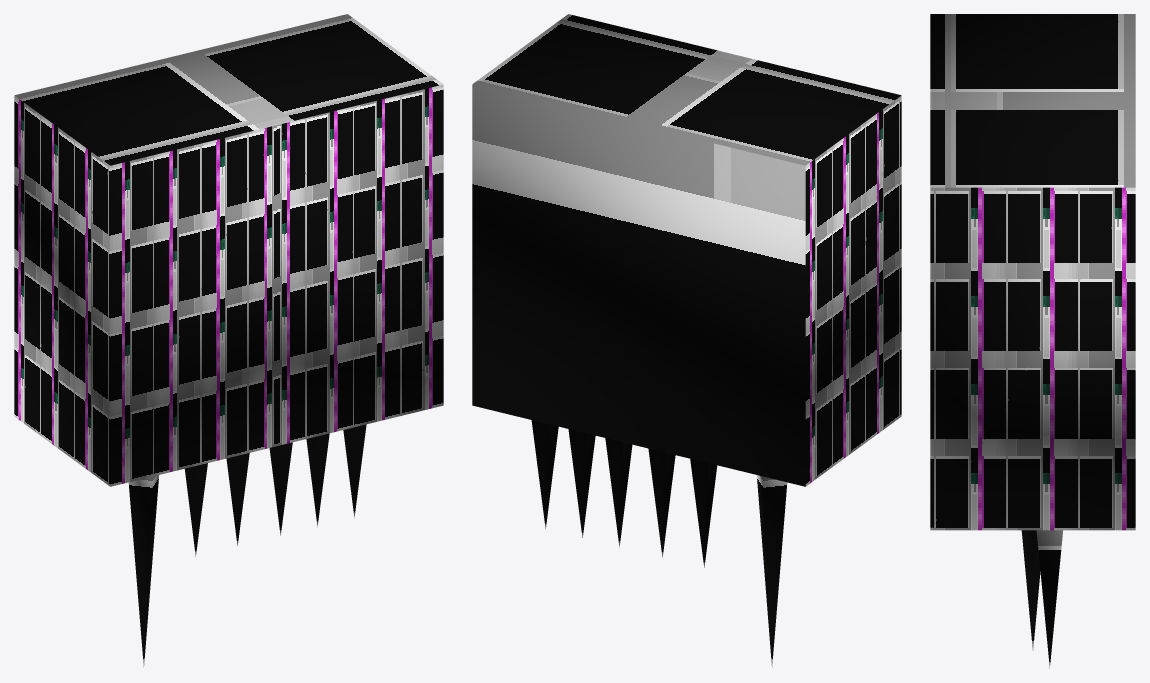
3 renders of one model, left to right at view 1: azimuth 30°, elevation 25°; view 2: azimuth 150°, elevation 25°; view 3: azimuth 270°, elevation 25°, orthographic. The views are drawn at different scales.
Parts seen in each view (by area): view 1: 3809kg_sh1_32; view 2: 3809kg_sh1_32; view 3: 3809kg_sh1_32.
Boxes of the visible parts, <box> form: 3809kg_sh1_32: <box>14,14,443,667</box>; 3809kg_sh1_32: <box>472,14,901,667</box>; 3809kg_sh1_32: <box>930,14,1135,668</box>.
Size of the model in its own units: 1.87 by 3 by 0.937.
4 materials, 4 textured.
